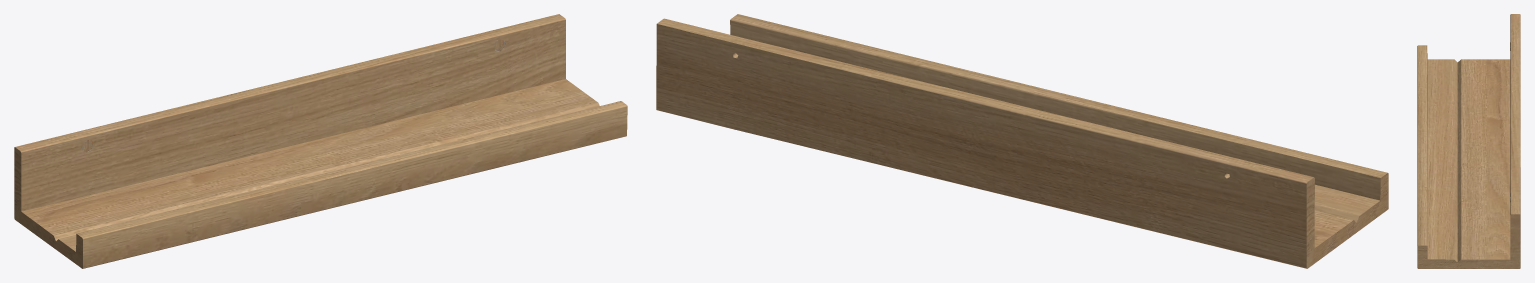
3 renders of one model, left to right at view 1: azimuth 30°, elevation 25°; view 2: azimuth 150°, elevation 25°; view 3: azimuth 270°, elevation 25°, orthographic. The views are drawn at different scales.
Parts seen in each view (by area): view 1: ASY_ART_80589835_S01_NV01; view 2: ASY_ART_80589835_S01_NV01; view 3: ASY_ART_80589835_S01_NV01.
Boxes of the visible parts, bbox=[...] form: ASY_ART_80589835_S01_NV01: bbox=[14, 14, 627, 268]; ASY_ART_80589835_S01_NV01: bbox=[656, 14, 1388, 268]; ASY_ART_80589835_S01_NV01: bbox=[1417, 14, 1520, 268].
Bounding box in the file's own units: 0.5501 × 0.0701 × 0.1201.
1 material, 1 textured.
